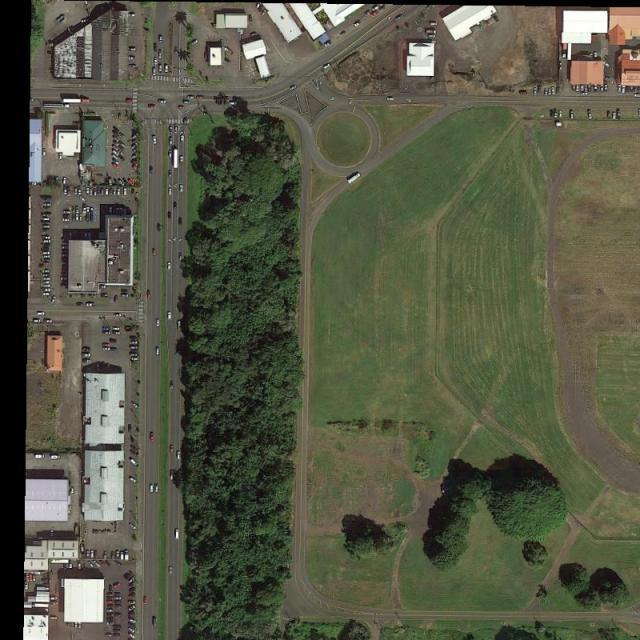vehicle: (62, 98, 91, 104), (349, 172, 362, 184), (44, 103, 70, 109), (174, 149, 179, 169), (128, 522, 138, 530), (130, 156, 138, 165), (371, 10, 380, 18), (394, 14, 403, 22), (175, 529, 181, 540), (562, 42, 566, 58), (226, 47, 234, 55), (130, 458, 138, 466), (131, 133, 140, 140), (119, 131, 126, 139), (118, 145, 126, 152), (118, 154, 125, 162), (112, 162, 119, 170), (123, 178, 130, 186), (290, 84, 298, 91), (114, 582, 121, 590), (131, 401, 138, 409), (603, 60, 610, 67), (131, 143, 138, 150), (119, 140, 126, 147), (364, 10, 371, 17), (128, 611, 135, 618), (115, 560, 122, 567), (130, 476, 137, 483), (113, 130, 119, 138), (128, 178, 134, 186), (492, 14, 498, 22), (322, 64, 330, 70), (128, 626, 136, 632), (146, 291, 152, 299), (126, 327, 134, 333), (106, 560, 112, 568), (126, 571, 132, 579), (35, 454, 44, 459), (79, 196, 86, 202), (119, 179, 125, 186), (479, 24, 485, 31), (191, 40, 198, 46), (130, 582, 136, 589), (128, 605, 135, 611), (130, 618, 137, 624), (129, 622, 136, 628), (94, 560, 100, 567), (129, 577, 135, 584), (114, 126, 119, 134), (33, 318, 41, 323), (156, 318, 160, 328), (82, 204, 86, 214), (125, 551, 129, 561), (556, 86, 560, 95), (132, 147, 138, 153), (132, 153, 138, 159), (118, 150, 124, 156), (112, 154, 118, 160), (115, 180, 121, 186), (485, 20, 491, 26), (129, 632, 135, 638), (177, 320, 181, 329), (156, 346, 160, 355), (114, 135, 119, 142), (113, 139, 118, 146), (113, 159, 120, 164), (324, 42, 331, 47), (341, 30, 346, 37), (354, 22, 361, 27), (45, 318, 52, 323), (52, 296, 57, 303), (89, 561, 94, 568), (100, 559, 105, 566), (386, 98, 394, 102), (149, 105, 157, 109), (230, 102, 238, 106), (174, 126, 178, 134), (150, 166, 154, 174), (128, 13, 136, 17), (250, 32, 258, 36), (106, 622, 114, 626), (86, 302, 94, 306), (114, 314, 122, 318), (130, 342, 138, 346), (86, 206, 90, 214), (90, 550, 94, 558), (86, 550, 90, 558), (103, 551, 107, 559), (150, 434, 154, 442), (170, 471, 174, 479), (116, 550, 120, 558), (184, 118, 189, 124), (225, 58, 231, 63), (379, 6, 385, 11), (130, 587, 136, 592), (129, 593, 135, 598), (121, 550, 124, 560), (594, 84, 598, 91), (571, 111, 575, 118), (594, 52, 598, 59), (98, 187, 102, 194), (90, 189, 94, 196), (108, 178, 112, 185), (183, 100, 190, 104), (127, 99, 134, 103), (428, 34, 435, 38), (430, 22, 437, 26), (249, 15, 253, 22), (372, 6, 379, 10), (106, 634, 113, 638), (43, 258, 50, 262), (101, 293, 108, 297), (167, 312, 171, 319), (130, 353, 137, 357), (63, 210, 70, 214), (86, 214, 90, 221), (90, 214, 94, 221), (109, 207, 113, 214), (25, 582, 29, 589), (42, 578, 49, 582), (150, 485, 154, 492), (112, 551, 116, 558), (589, 84, 592, 93), (534, 86, 537, 95), (43, 198, 52, 201), (426, 30, 435, 33), (158, 100, 167, 103), (179, 155, 182, 164), (113, 150, 118, 155), (618, 86, 622, 92), (589, 111, 592, 119), (559, 110, 562, 118), (554, 110, 557, 118), (550, 110, 554, 116), (538, 86, 541, 94), (590, 53, 594, 59), (110, 189, 114, 195), (78, 188, 82, 194), (64, 187, 67, 195), (43, 214, 51, 217), (42, 222, 50, 225), (42, 236, 50, 239), (153, 249, 157, 255), (43, 148, 46, 156), (159, 34, 162, 42), (153, 136, 156, 144), (181, 134, 184, 142), (178, 106, 186, 109), (169, 150, 172, 158), (169, 170, 172, 178), (42, 252, 50, 255), (114, 613, 122, 616), (114, 628, 120, 632), (114, 633, 120, 637), (78, 622, 82, 628), (128, 601, 136, 604), (114, 596, 122, 599), (62, 246, 68, 250), (60, 277, 68, 280), (37, 313, 45, 316), (75, 303, 83, 306), (121, 290, 127, 294), (121, 294, 129, 297), (130, 346, 138, 349), (130, 358, 138, 361), (110, 339, 116, 343), (62, 253, 68, 257), (63, 238, 69, 242), (102, 347, 110, 350), (42, 270, 50, 273), (42, 282, 50, 285), (42, 288, 50, 291), (42, 293, 50, 296), (62, 215, 70, 218), (72, 214, 75, 222), (102, 342, 110, 345), (78, 562, 81, 570), (153, 618, 156, 626), (106, 613, 114, 616), (84, 348, 90, 352), (84, 354, 90, 358), (84, 359, 90, 363), (107, 364, 111, 370), (170, 566, 173, 574), (51, 456, 59, 459), (71, 486, 74, 494), (51, 530, 54, 538), (623, 86, 626, 93), (585, 85, 588, 92), (576, 84, 579, 91), (618, 111, 621, 118), (552, 87, 555, 94), (64, 178, 67, 185), (106, 189, 109, 196), (94, 189, 97, 196), (86, 188, 89, 195), (68, 188, 71, 195), (43, 203, 50, 206), (43, 240, 50, 243), (56, 178, 59, 185), (59, 153, 62, 160), (180, 186, 183, 193), (168, 262, 171, 269), (170, 124, 173, 131), (174, 202, 177, 209), (158, 224, 161, 231), (82, 19, 89, 22), (154, 44, 157, 51), (159, 51, 162, 58), (154, 58, 157, 65), (159, 65, 162, 72), (42, 247, 49, 250), (114, 600, 121, 603), (114, 605, 121, 608), (114, 593, 121, 596), (114, 295, 117, 302), (131, 337, 138, 340), (83, 232, 86, 239), (43, 262, 50, 265), (62, 219, 69, 222), (76, 206, 79, 213), (90, 207, 93, 214), (92, 231, 95, 238), (88, 232, 91, 239), (103, 331, 110, 334), (50, 598, 57, 601), (50, 617, 57, 620), (144, 598, 147, 605), (110, 586, 113, 593), (107, 593, 114, 596), (106, 610, 113, 613), (94, 551, 97, 558), (102, 327, 109, 330), (96, 363, 99, 370), (170, 382, 173, 389), (170, 446, 173, 453), (634, 86, 638, 91), (630, 86, 634, 91), (626, 86, 630, 91), (581, 86, 585, 91), (113, 146, 118, 150), (634, 94, 640, 97), (600, 85, 603, 91), (581, 93, 587, 96), (613, 112, 616, 118), (607, 112, 610, 118), (573, 85, 576, 91), (124, 189, 127, 195), (114, 189, 117, 195), (102, 188, 105, 194), (75, 189, 78, 195), (106, 178, 109, 184), (170, 136, 172, 145), (169, 190, 172, 196), (188, 96, 194, 99), (179, 218, 182, 224), (179, 254, 182, 260), (129, 47, 135, 50), (130, 65, 136, 68), (153, 68, 156, 74), (114, 625, 120, 628), (75, 622, 78, 628), (76, 214, 79, 220), (80, 215, 83, 221), (106, 601, 112, 604), (156, 484, 158, 493), (132, 188, 134, 196), (175, 46, 177, 54), (42, 256, 50, 258), (42, 275, 50, 277), (42, 278, 50, 280), (42, 285, 50, 287), (106, 605, 114, 607), (605, 86, 608, 91), (168, 213, 171, 218), (545, 88, 547, 95), (43, 218, 50, 220), (197, 96, 204, 98), (127, 57, 134, 59), (166, 65, 168, 72), (73, 206, 75, 213), (33, 574, 35, 581), (30, 574, 32, 581), (70, 561, 72, 568), (178, 452, 180, 459), (520, 92, 526, 94), (44, 226, 50, 228), (44, 230, 50, 232), (188, 44, 190, 50), (113, 328, 119, 330), (118, 190, 120, 195), (114, 332, 119, 334), (107, 618, 112, 620), (107, 598, 112, 600), (549, 88, 550, 95), (639, 87, 640, 92)
